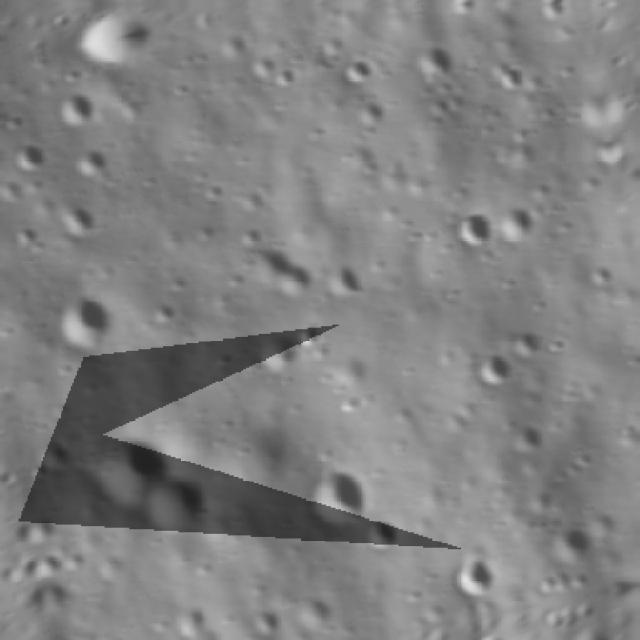crater: (84, 416, 171, 504), (299, 449, 386, 529), (246, 230, 328, 312), (146, 466, 222, 540), (50, 282, 124, 355), (446, 544, 506, 598), (316, 248, 369, 307), (490, 194, 544, 251), (470, 338, 521, 396), (252, 322, 306, 376), (59, 186, 110, 240), (64, 132, 118, 182), (448, 199, 498, 253), (51, 80, 100, 134), (352, 504, 406, 553), (292, 588, 345, 637), (412, 32, 459, 85), (549, 516, 596, 566), (507, 413, 550, 461), (8, 128, 50, 177), (504, 316, 547, 361), (286, 308, 328, 352), (492, 53, 532, 98), (337, 48, 380, 89), (2, 214, 48, 252), (34, 430, 75, 472), (248, 598, 292, 637), (212, 24, 253, 65), (172, 594, 214, 634), (270, 57, 305, 91), (40, 544, 68, 578), (150, 295, 182, 322), (535, 0, 571, 23), (442, 0, 482, 20)
